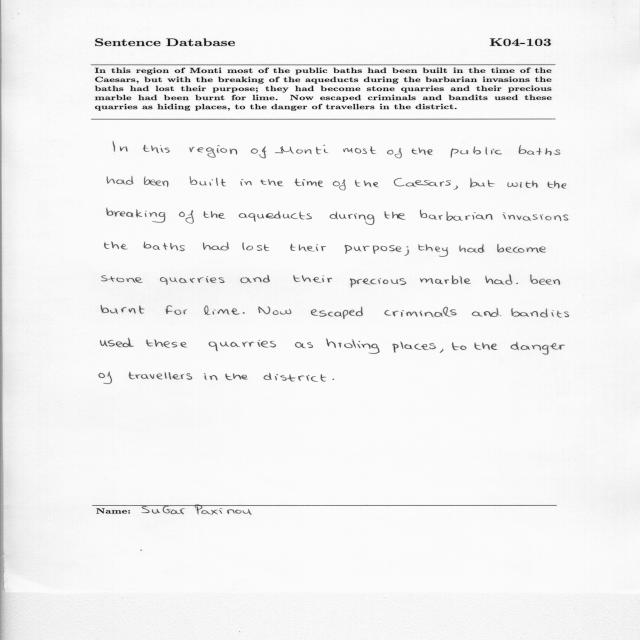word: (107, 208, 166, 223), (326, 338, 380, 354), (239, 211, 312, 222), (420, 210, 493, 221), (384, 307, 457, 318), (209, 340, 276, 351), (510, 342, 565, 355), (330, 211, 375, 225), (189, 145, 237, 158), (450, 146, 502, 158), (311, 307, 363, 319), (503, 212, 569, 221), (160, 276, 225, 285), (511, 308, 569, 318), (350, 278, 407, 288), (264, 373, 327, 382), (275, 145, 328, 155), (344, 245, 402, 254), (394, 178, 451, 187), (129, 372, 193, 380), (392, 342, 436, 353), (420, 275, 471, 284), (497, 244, 546, 253), (519, 145, 561, 155), (190, 176, 226, 187), (101, 305, 145, 314), (418, 244, 448, 257), (143, 242, 185, 251), (146, 339, 187, 348), (486, 274, 519, 285), (204, 305, 240, 315), (531, 274, 561, 285), (102, 275, 143, 283), (294, 275, 333, 283), (258, 306, 292, 315), (100, 338, 134, 347), (290, 244, 326, 252), (144, 176, 169, 187), (343, 146, 377, 154), (295, 179, 324, 188), (472, 308, 501, 317), (470, 178, 495, 188), (242, 242, 269, 251), (240, 275, 270, 283), (107, 176, 133, 185), (459, 244, 485, 253), (165, 305, 187, 315), (143, 145, 170, 153), (508, 181, 538, 188), (179, 210, 194, 224), (203, 242, 229, 250), (251, 147, 267, 159), (384, 211, 405, 220), (105, 242, 128, 250), (475, 343, 497, 351), (412, 147, 433, 155), (355, 180, 379, 187), (204, 211, 225, 219), (261, 179, 284, 186), (99, 372, 112, 384), (226, 373, 248, 380), (548, 181, 567, 189), (387, 148, 402, 158), (333, 180, 346, 191), (113, 142, 127, 152), (452, 342, 467, 350), (295, 342, 313, 348), (204, 373, 218, 380), (240, 179, 252, 186), (404, 246, 409, 256), (453, 185, 458, 190), (440, 349, 444, 353), (243, 312, 245, 314), (333, 379, 335, 380)
